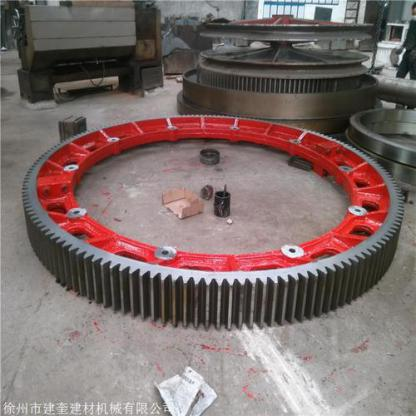FOD: (19, 111, 406, 333)
